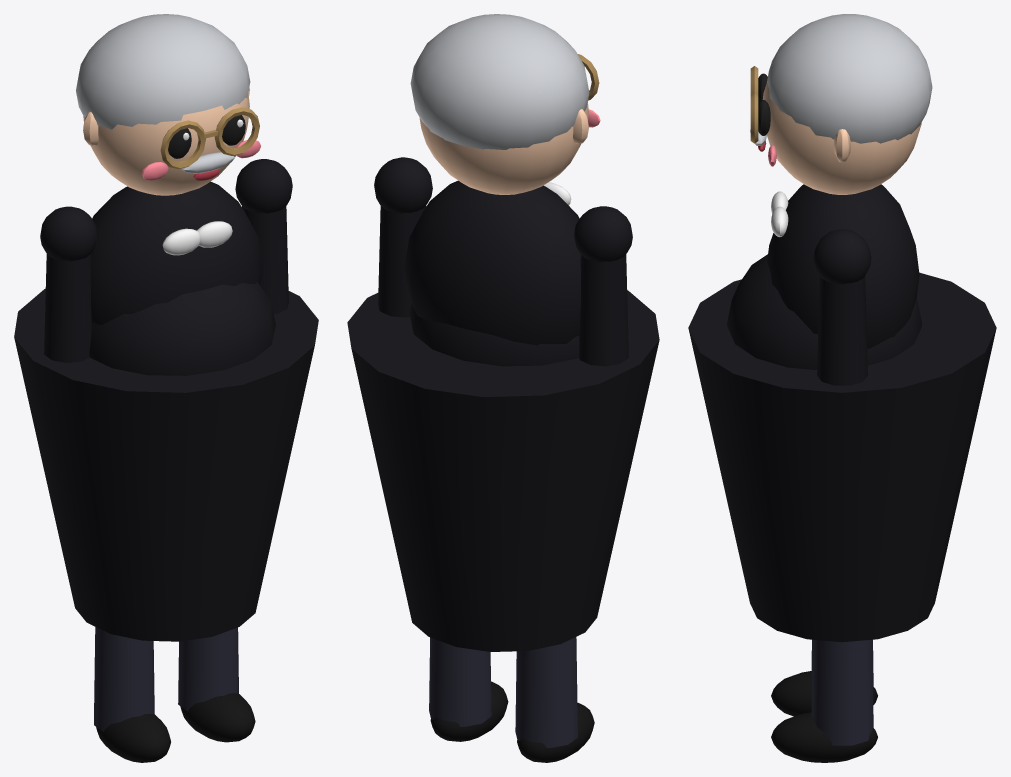
The model's file is law_judge.glb.
The picture shows the model from 3 angles, left to right: view 1: azimuth 30°, elevation 25°; view 2: azimuth 150°, elevation 25°; view 3: azimuth 270°, elevation 25°; orthographic projection. The views are drawn at different scales.
Visible parts, largest first — view 1: Body.001, Leg_R, Arm_R, Leg_L, Arm_L; view 2: Body.001, Arm_R, Leg_R, Leg_L, Arm_L; view 3: Body.001, Leg_L, Arm_L, Leg_R.
Boxes of the visible parts, x1,y1,x2,y2 form: Body.001: [14, 14, 318, 641]; Leg_R: [94, 627, 170, 762]; Arm_R: [40, 206, 97, 362]; Leg_L: [178, 627, 255, 742]; Arm_L: [235, 159, 292, 314]; Body.001: [347, 14, 659, 651]; Arm_R: [574, 206, 632, 366]; Leg_R: [515, 637, 594, 762]; Leg_L: [429, 637, 508, 741]; Arm_L: [374, 157, 432, 317]; Body.001: [688, 14, 996, 642]; Leg_L: [771, 639, 877, 762]; Arm_L: [813, 229, 871, 385]; Leg_R: [771, 639, 877, 716].
Bounding box in the file's own units: 0.69 × 1.76 × 0.69.
